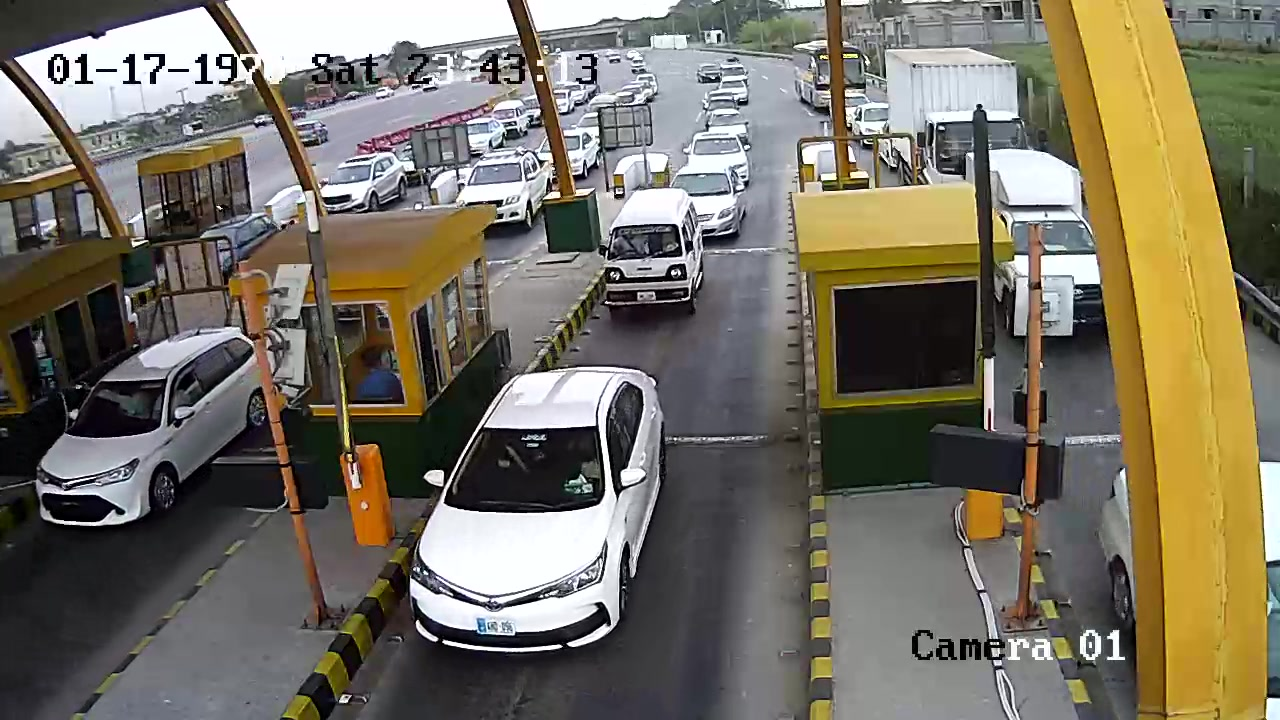F1: (401, 360, 674, 658), (605, 185, 705, 333)
